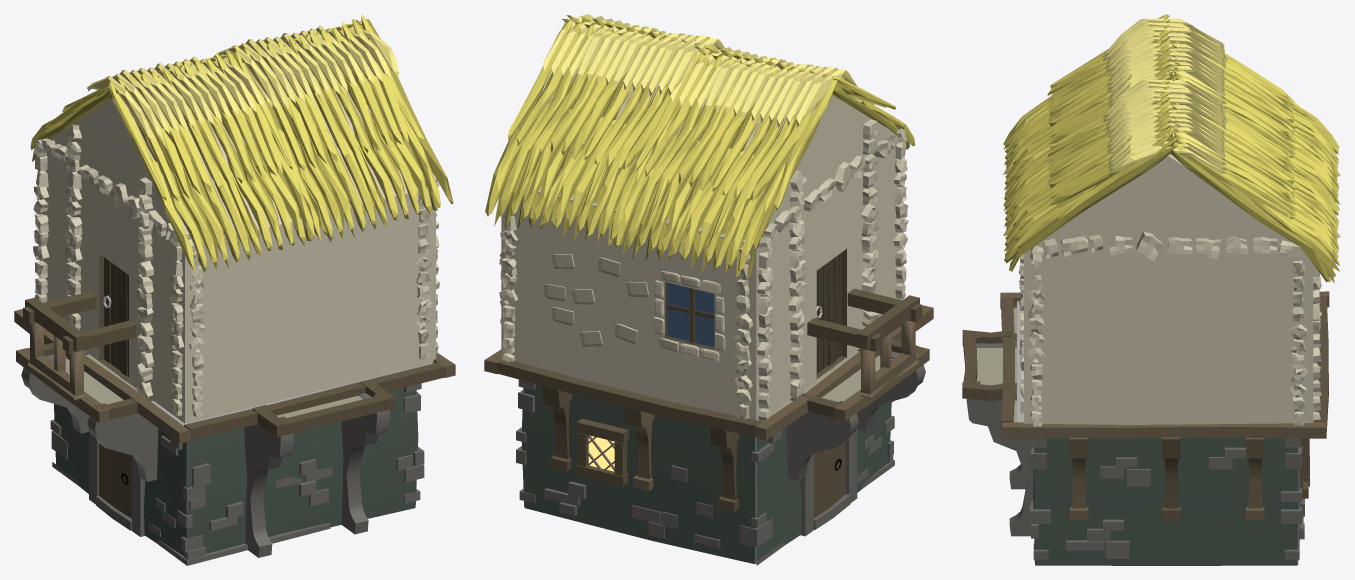
The model's file is House_of_Scientists_V2.fbx.
The picture shows the model from 3 angles, left to right: view 1: azimuth 30°, elevation 25°; view 2: azimuth 150°, elevation 25°; view 3: azimuth 270°, elevation 25°; orthographic projection.
Parts seen in each view (by area): view 1: Здание_учёных; view 2: Здание_учёных; view 3: Здание_учёных.
Part boxes in pixels (x1,y1,x2,y2): Здание_учёных: (14,14,455,565); Здание_учёных: (484,14,933,565); Здание_учёных: (962,14,1340,565).
Bounding box in the file's own units: 2.54 × 3.21 × 2.52.
